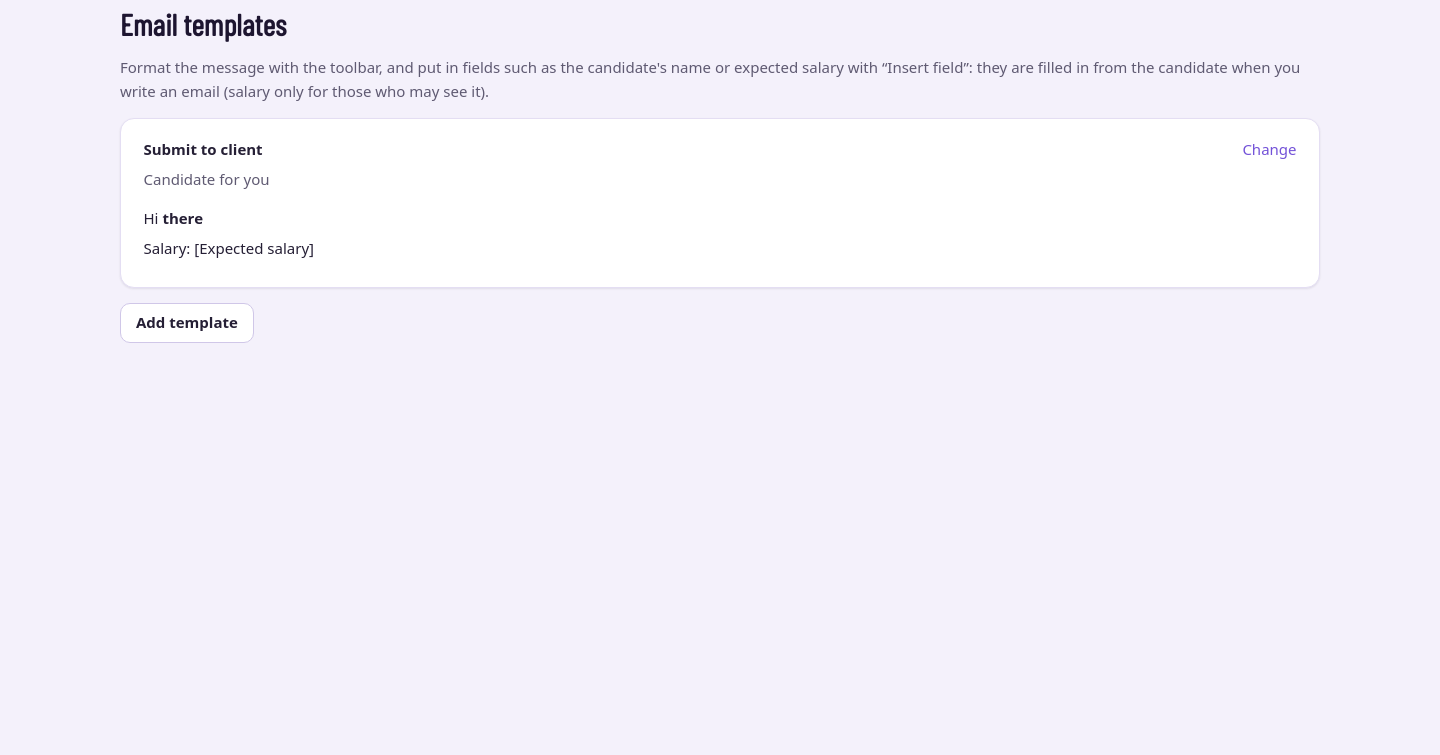
Test: email templates › show a candidate's values for the fields while the template is written, keeping the fields
The image size is (1440, 755).
Later steps or results of the test are not shown.
Click the button "Change" at (1269, 149), box 1242,138 -> 1296,161
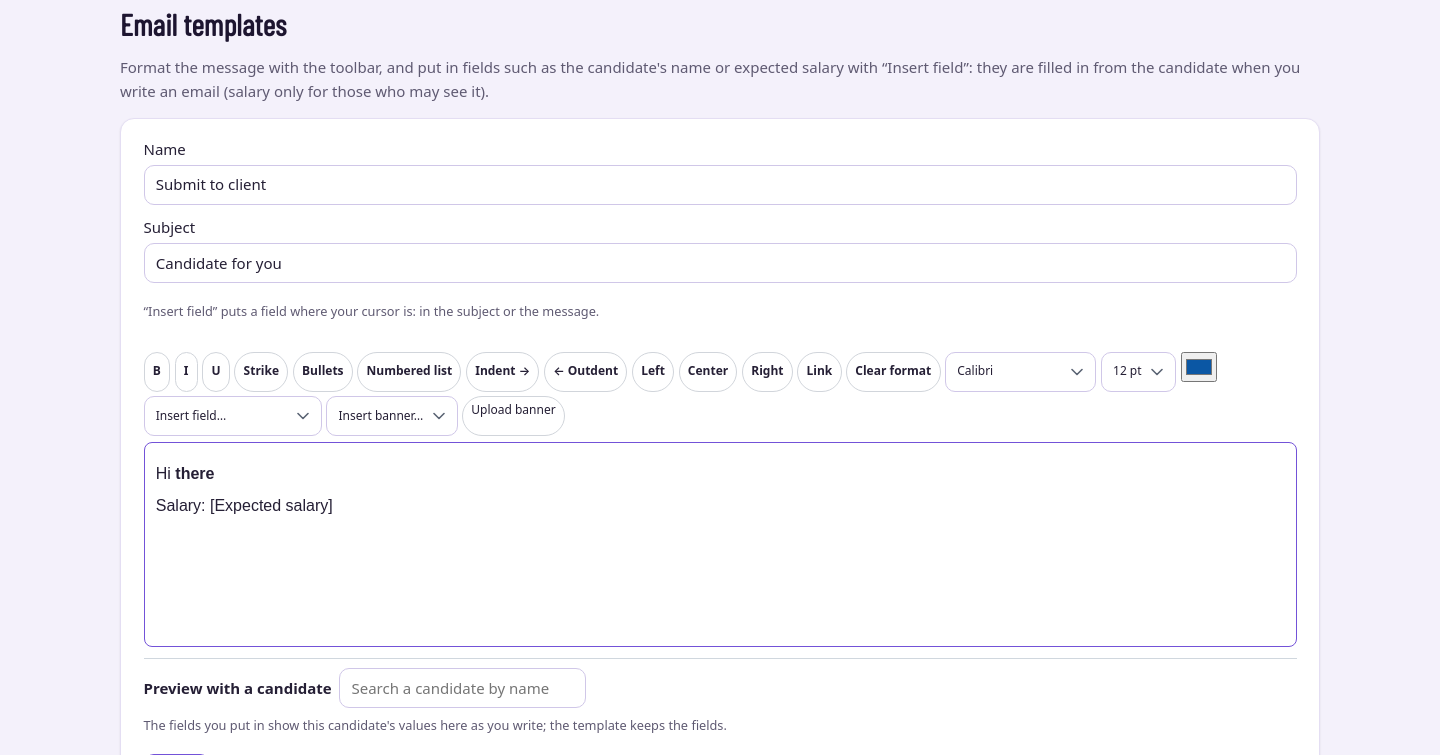
Type "Siti" into the field named "Candidate to preview with" at (462, 688), box 339,668 -> 586,708
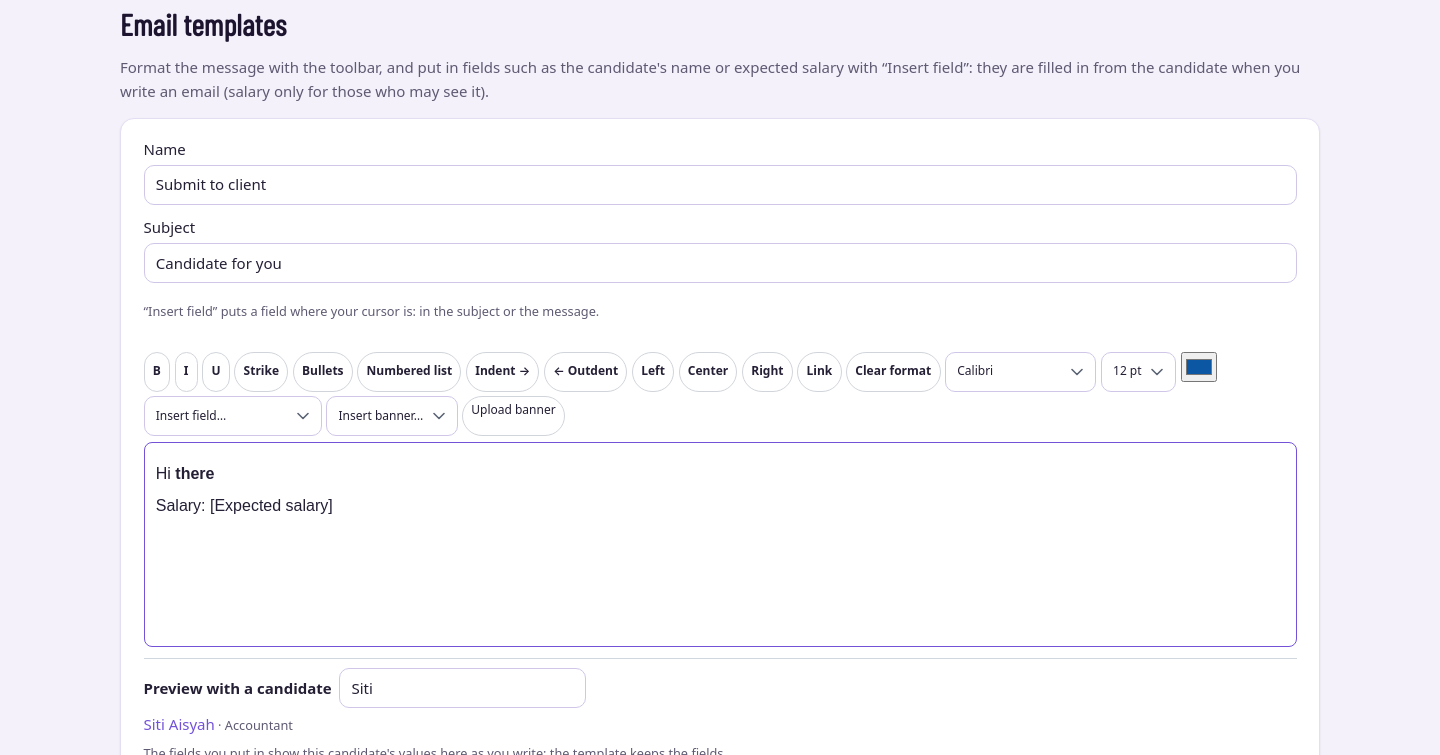
Click the button "Siti Aisyah" at (179, 724), box 144,713 -> 215,736
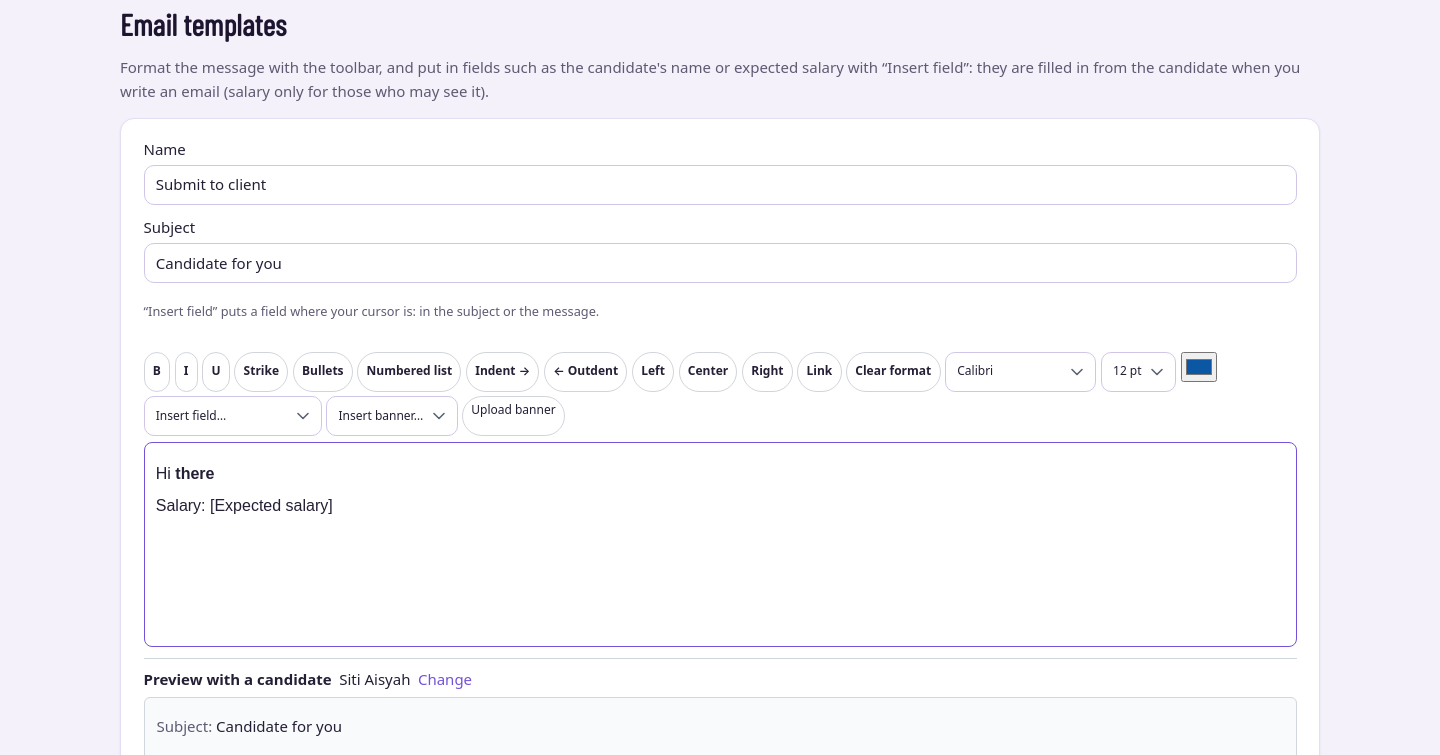
Select "Candidate name" in the dropdown named "Insert field" at (233, 416), box 144,396 -> 322,436
(page scrolled)
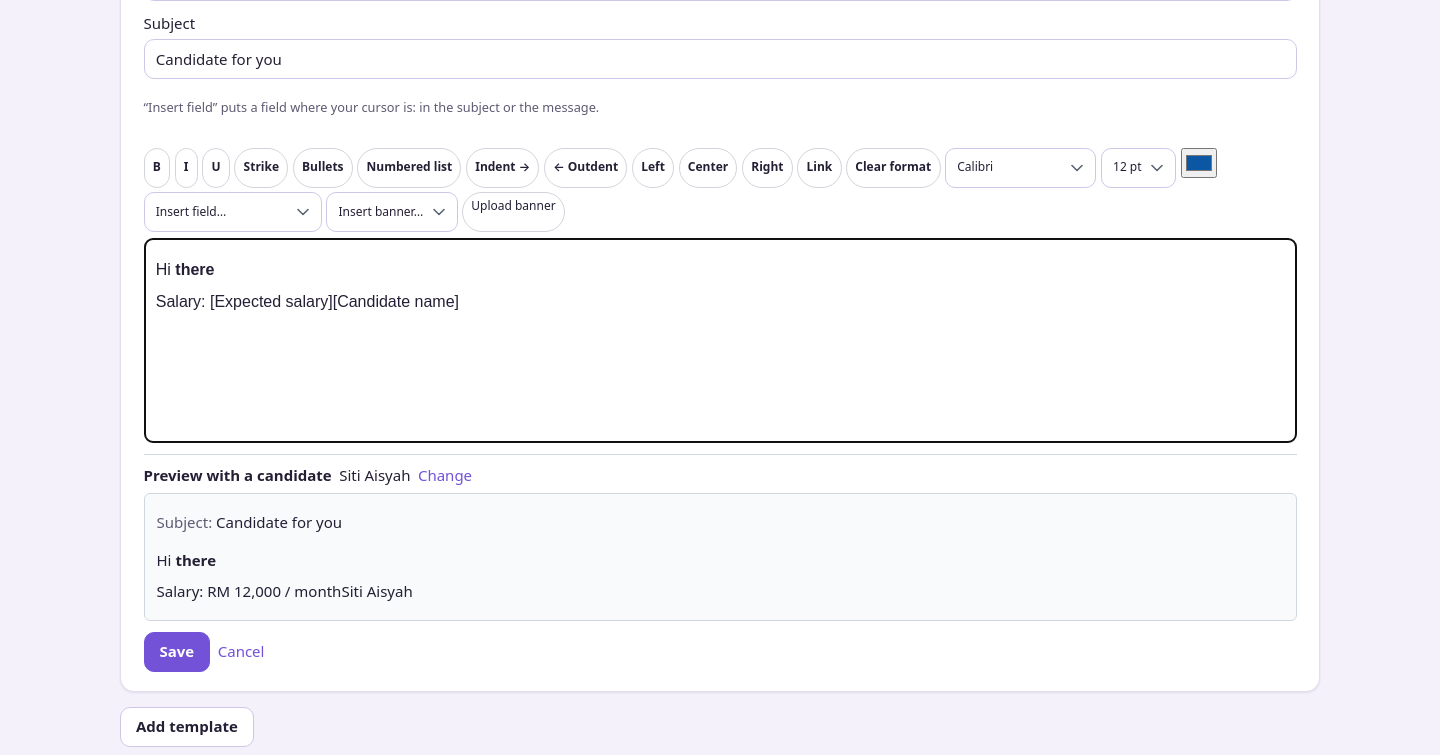
Check: the field named "Message" shows "[Candidate name]", box 144,238 -> 1296,443
Check: the element with class "email-body" shows "Siti Aisyah", box 156,581 -> 413,601
